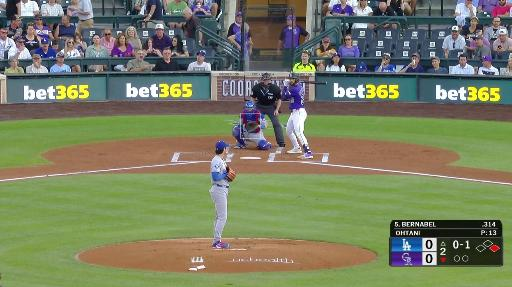pitcher: (210, 141, 237, 250)
